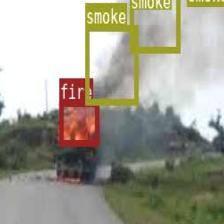fire: (58, 99, 97, 144)
smoke: (85, 24, 138, 103), (129, 0, 179, 52), (186, 0, 224, 6)
